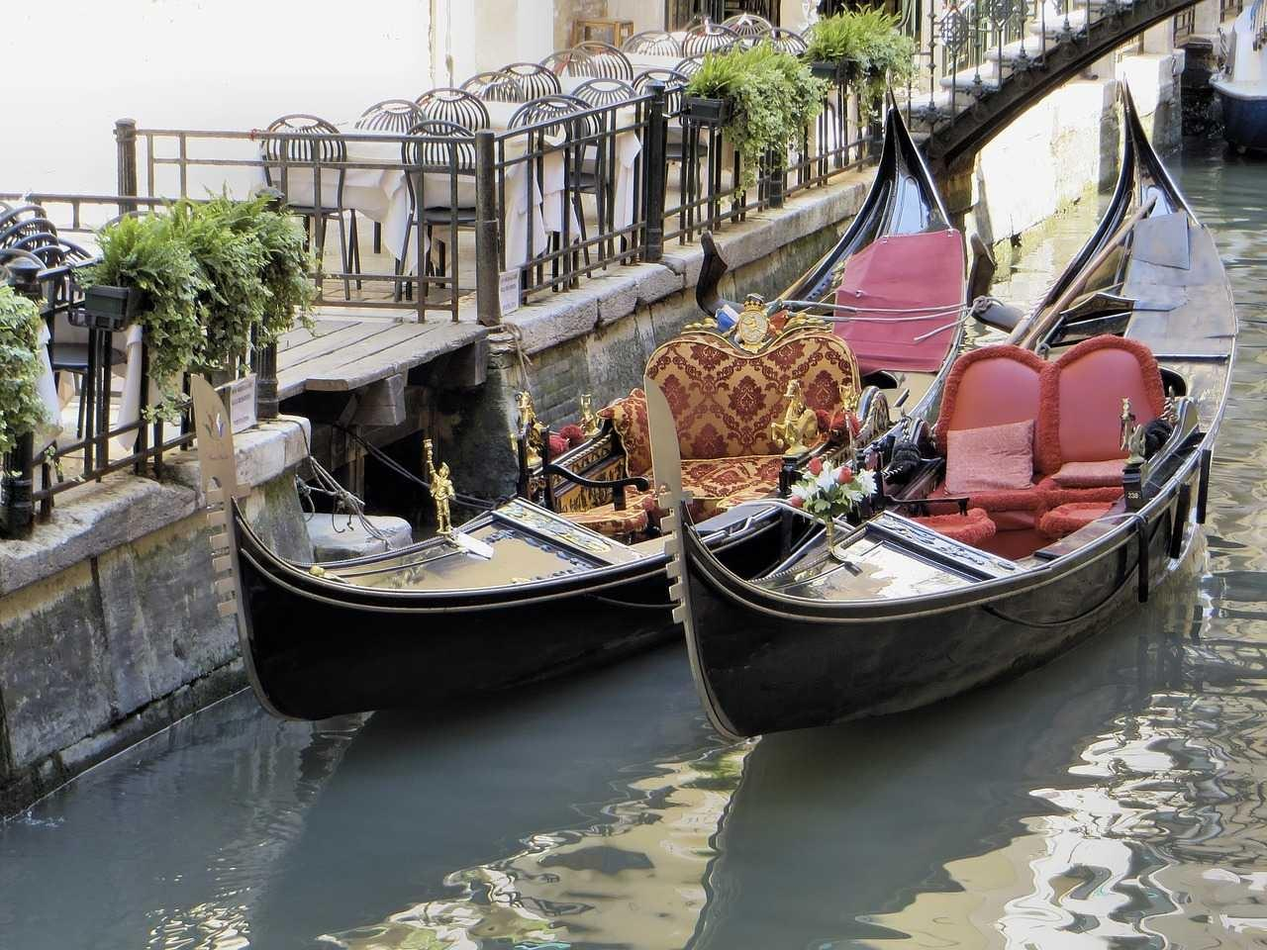kayak: (189, 91, 970, 632), (670, 67, 1242, 741), (188, 371, 679, 661), (1210, 0, 1267, 154)
